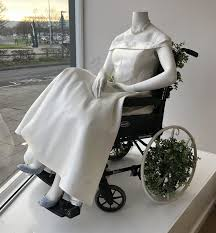person-like: (11, 6, 182, 221)
